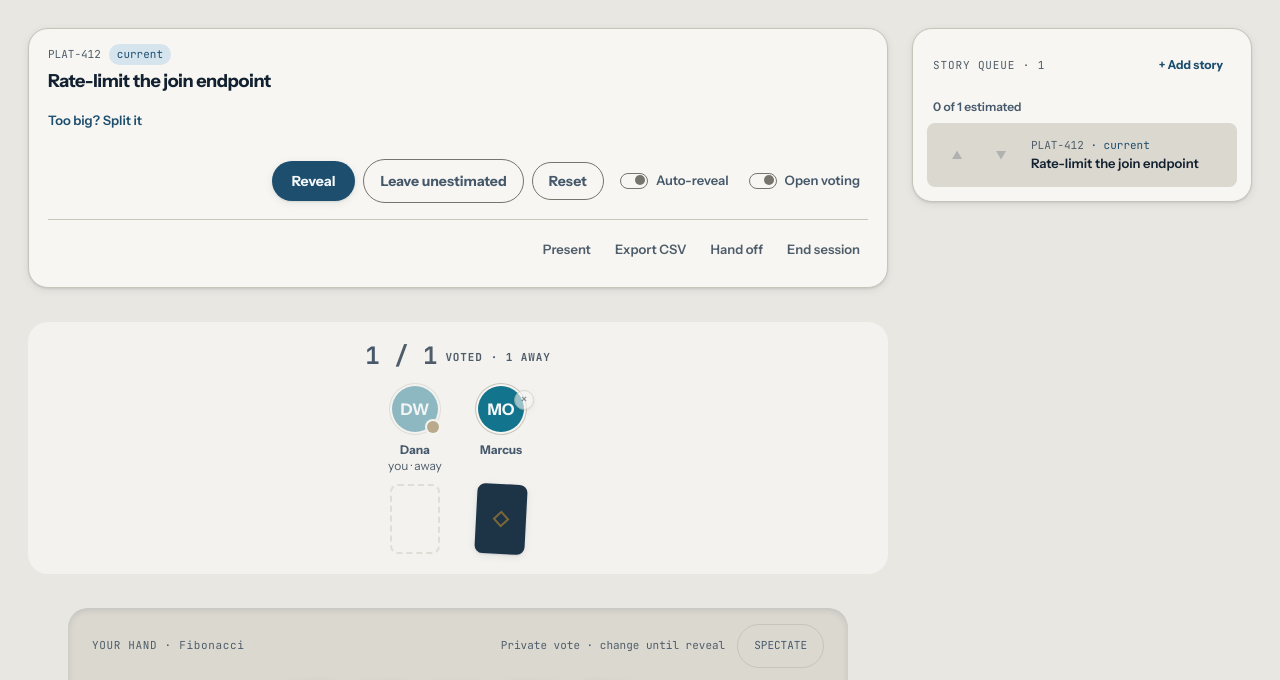
Test: PokerRoom errors › clears the failure banner when the round moves on to a new story
Click the button "Reveal": (314,180) [272, 160, 355, 200]
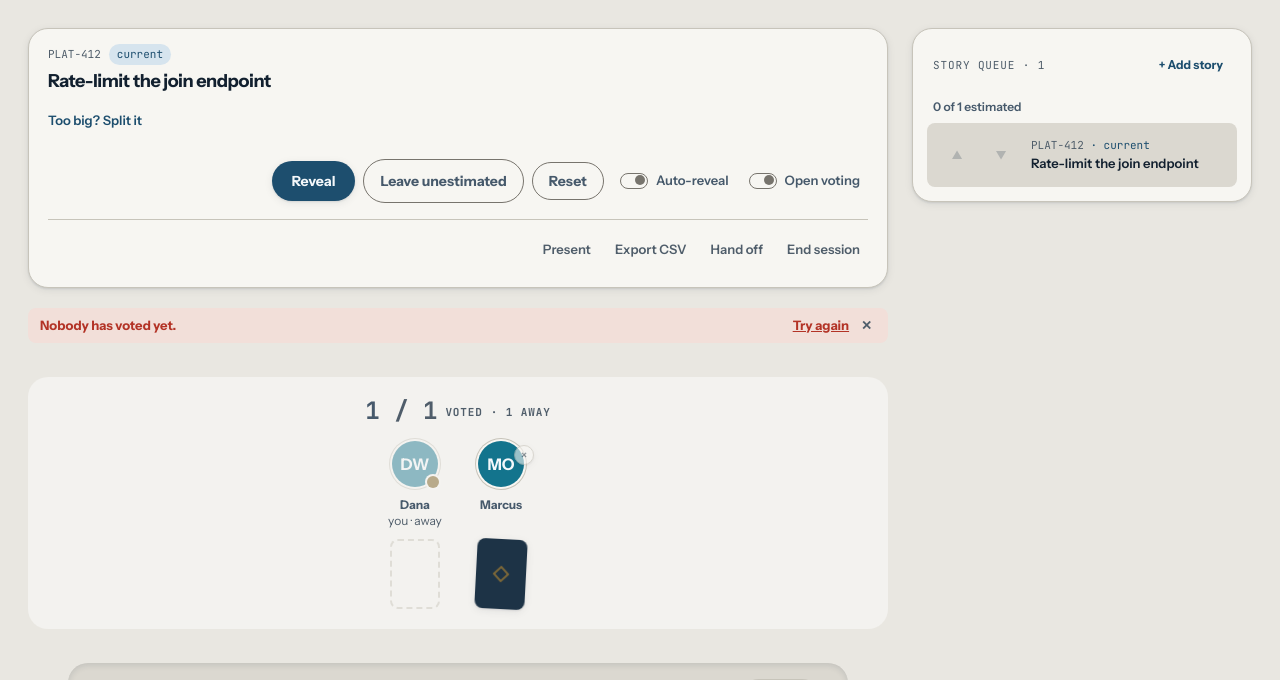
Expected: the message "Nobody has voted yet. Try again ✕" is shown, [28, 308, 888, 343]
